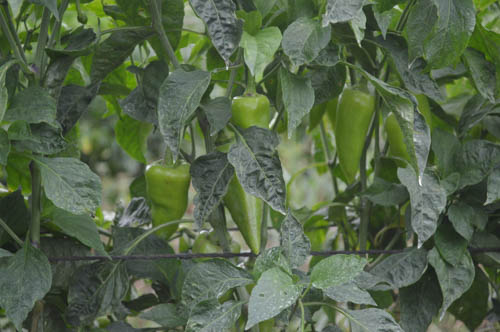ChiliPepper: (221, 146, 261, 253), (142, 160, 191, 238), (334, 87, 371, 188), (385, 97, 431, 173), (193, 236, 240, 294), (229, 97, 273, 137)
